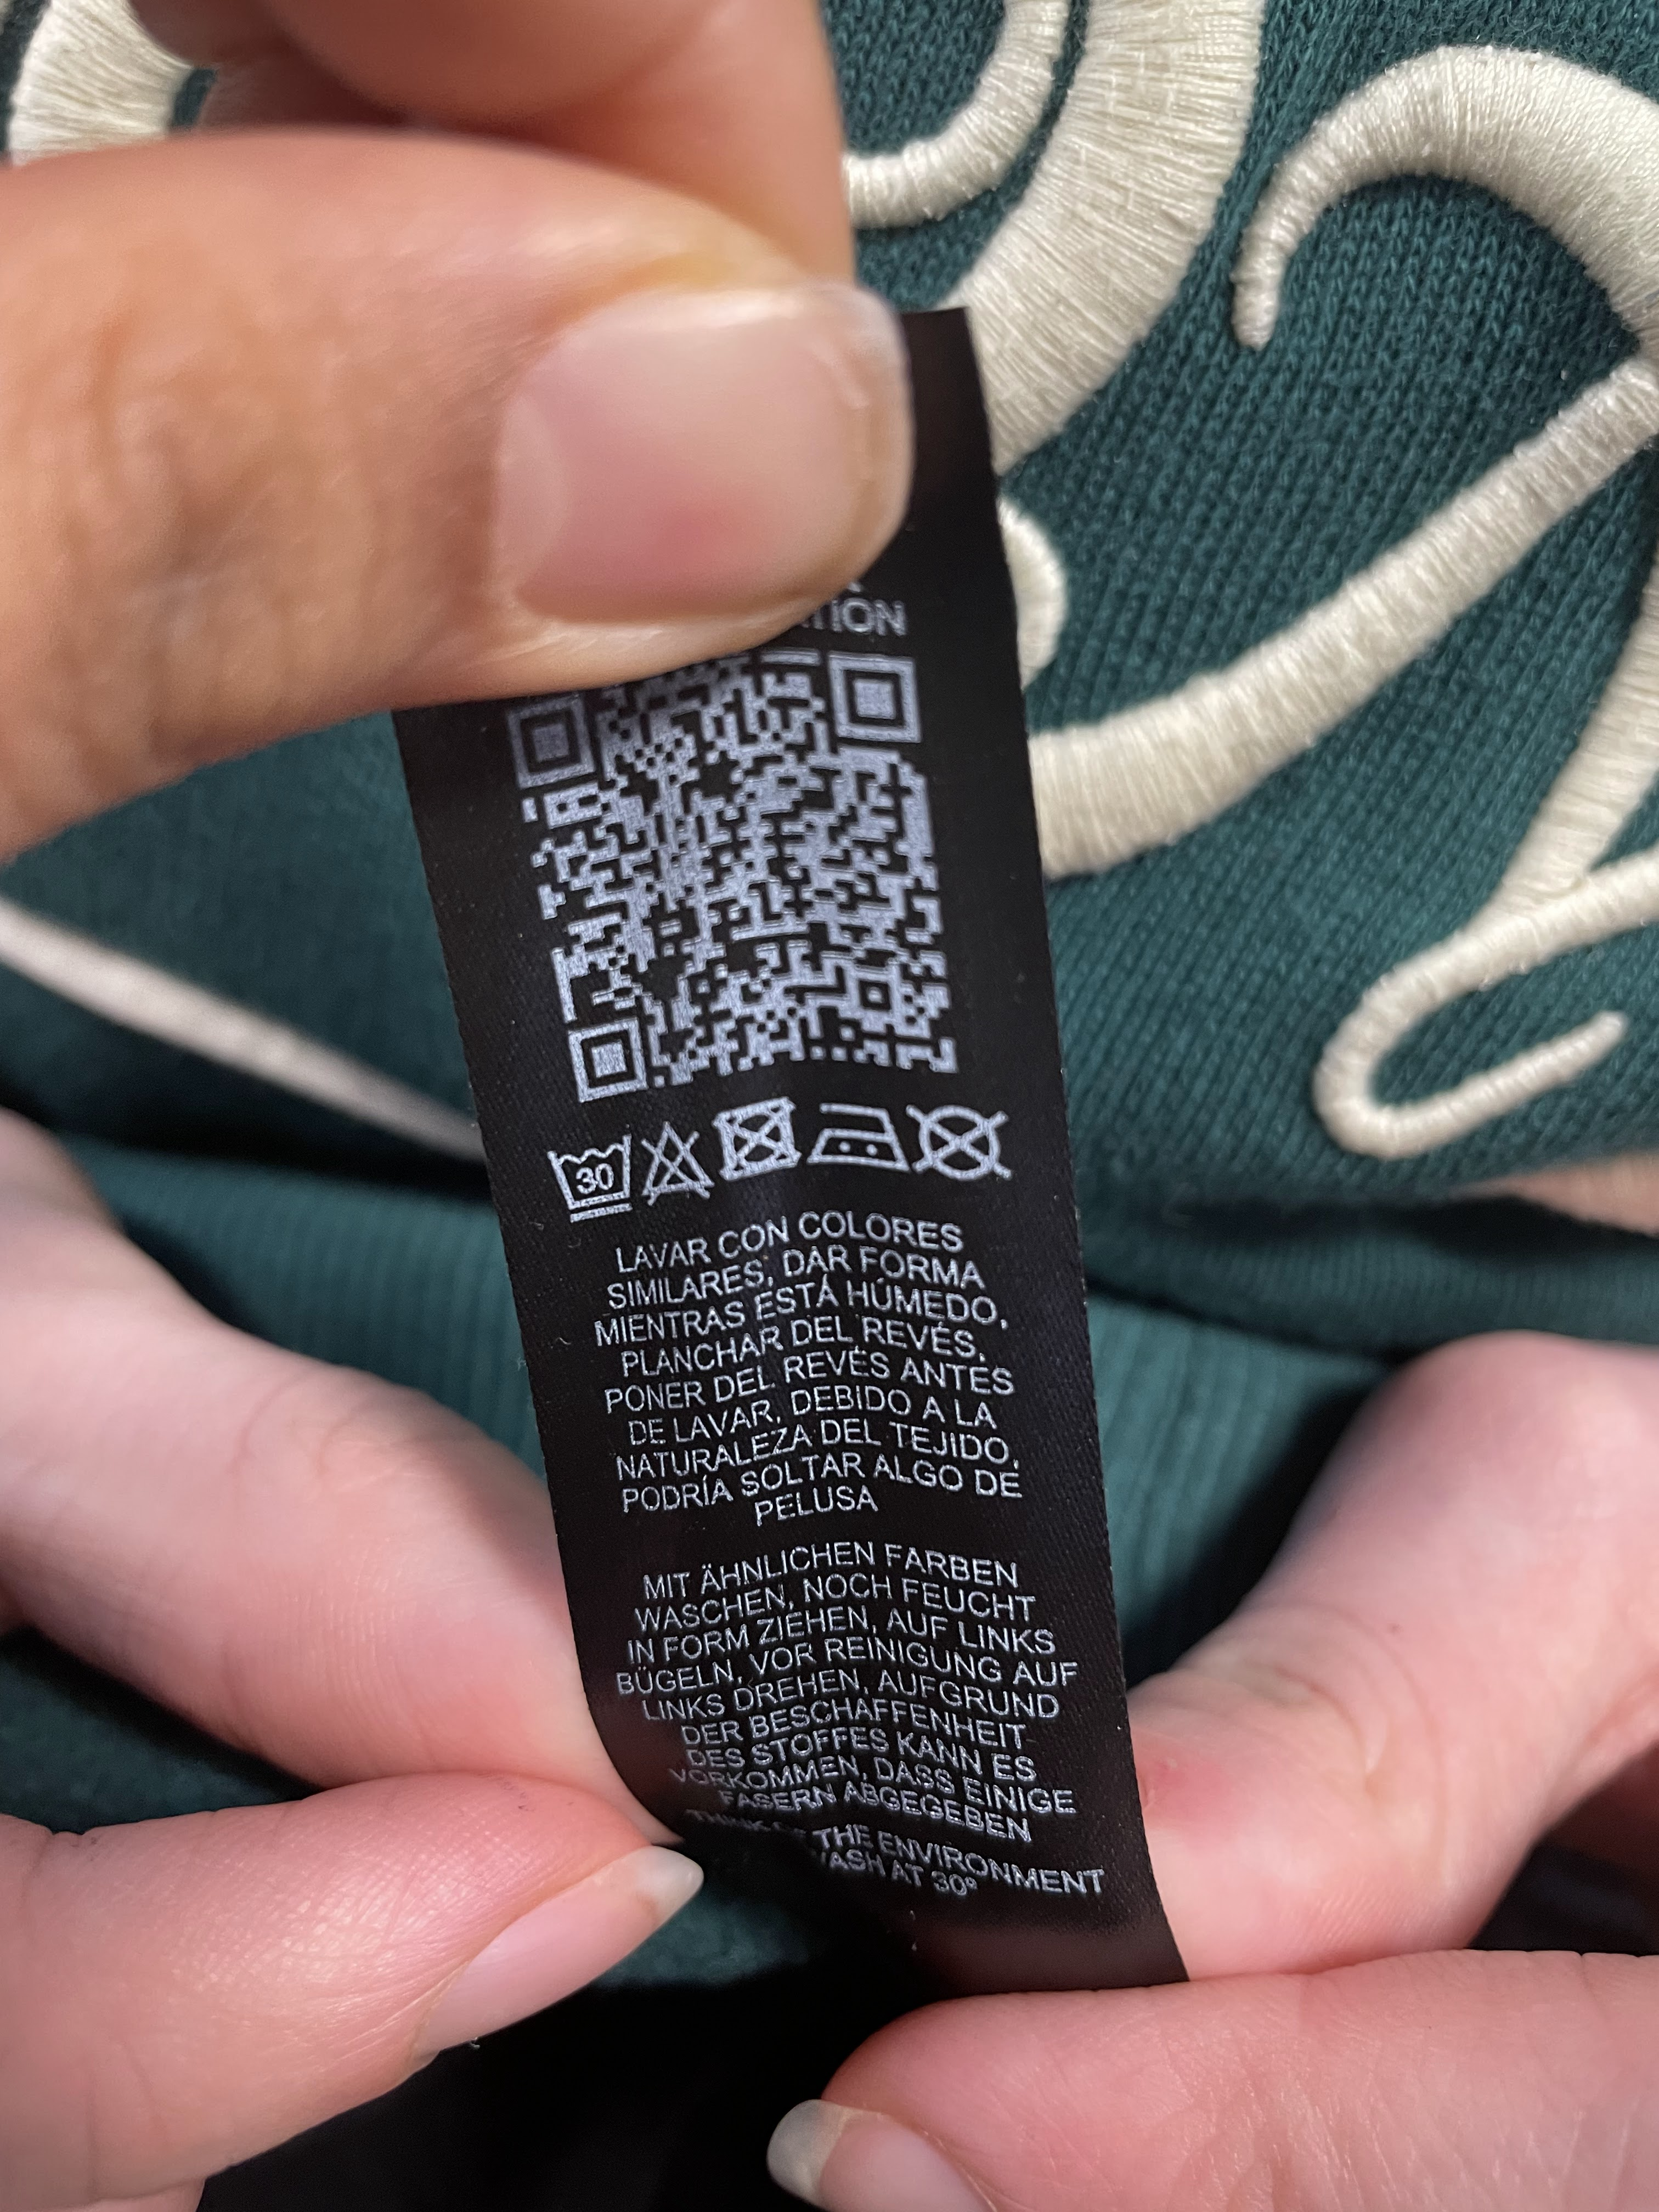do not bleach: (640, 1125, 720, 1214)
do not dry clean: (911, 1097, 1035, 1217)
do not tumble dry: (708, 1097, 800, 1198)
iron medium temp: (802, 1087, 911, 1197)
wash at or below 30: (540, 1130, 640, 1233)
